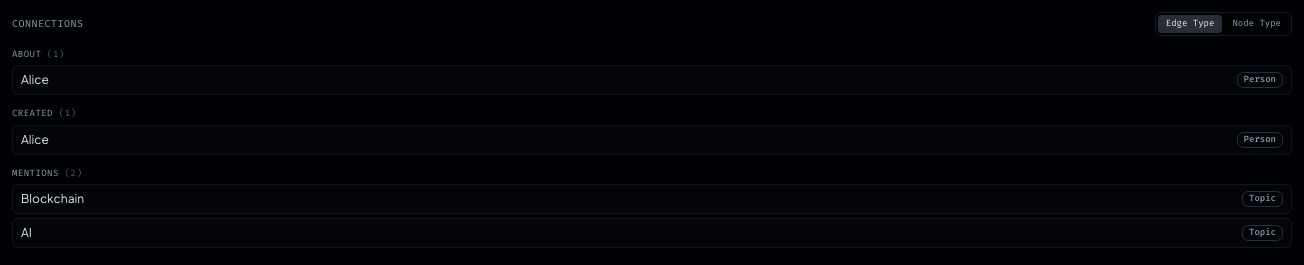
it: ConnectionsSection – node type grouping toggle › switches to node type grouping when Node Type button is clicked
The width and height of the screenshot is (1304, 265).
Click the button "Node Type" at (1257, 24), box [1224, 15, 1289, 32]
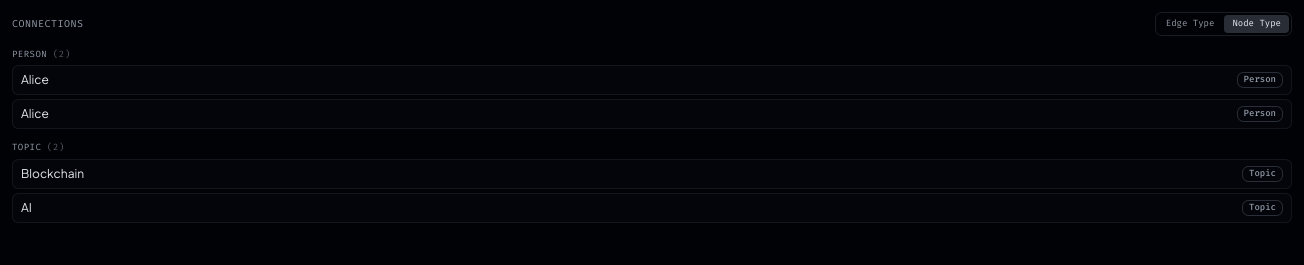
Expected: the text "Topic" is shown, [12, 141, 41, 153]
Expected: the text "Person" is shown, [12, 48, 47, 60]
